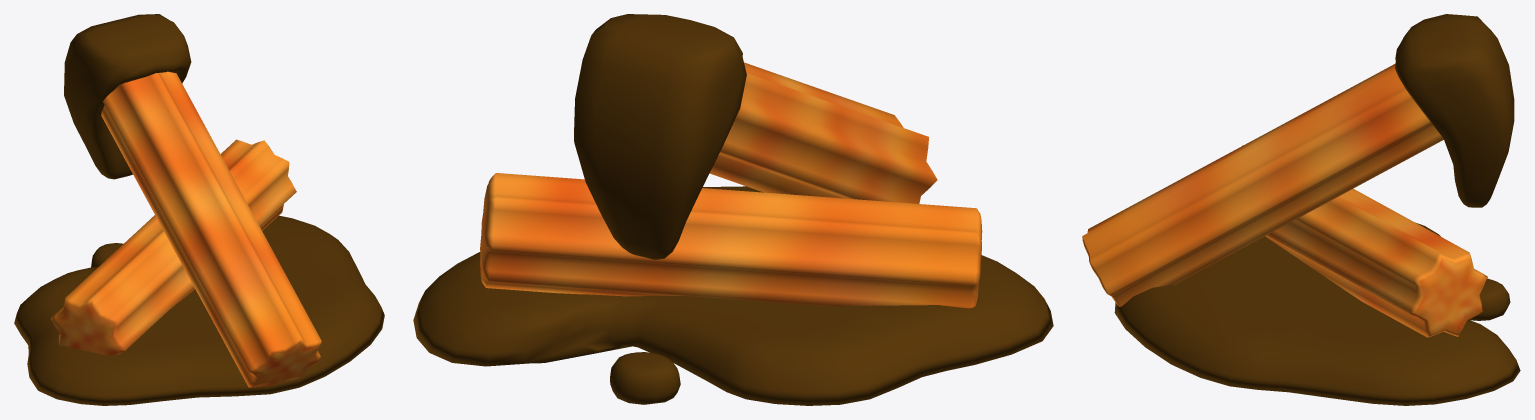
File: Churros.fbx
3 renders of one model, left to right at view 1: azimuth 30°, elevation 25°; view 2: azimuth 150°, elevation 25°; view 3: azimuth 270°, elevation 25°, orthographic. The views are drawn at different scales.
Parts seen in each view (by area): view 1: Churros, Chocolate1; view 2: Chocolate1, Churros; view 3: Chocolate1, Churros.
Part boxes in pixels (<box>): Churros: <box>51,71,321,387</box>; Chocolate1: <box>14,14,384,405</box>; Chocolate1: <box>413,14,1053,405</box>; Churros: <box>480,62,982,308</box>; Chocolate1: <box>1114,14,1520,405</box>; Churros: <box>1082,64,1487,337</box>.
Bounding box in the file's own units: 4.05 × 2.68 × 3.78.
Materials: 2 (1 with a texture image).
